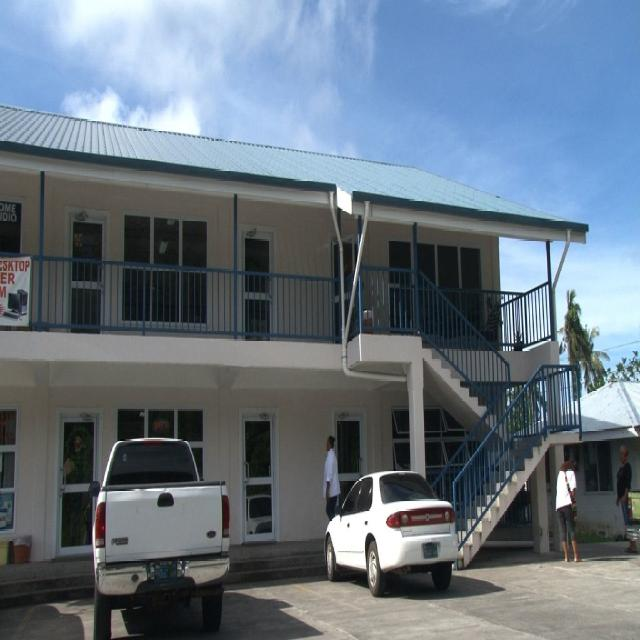car: (322, 469, 458, 593)
